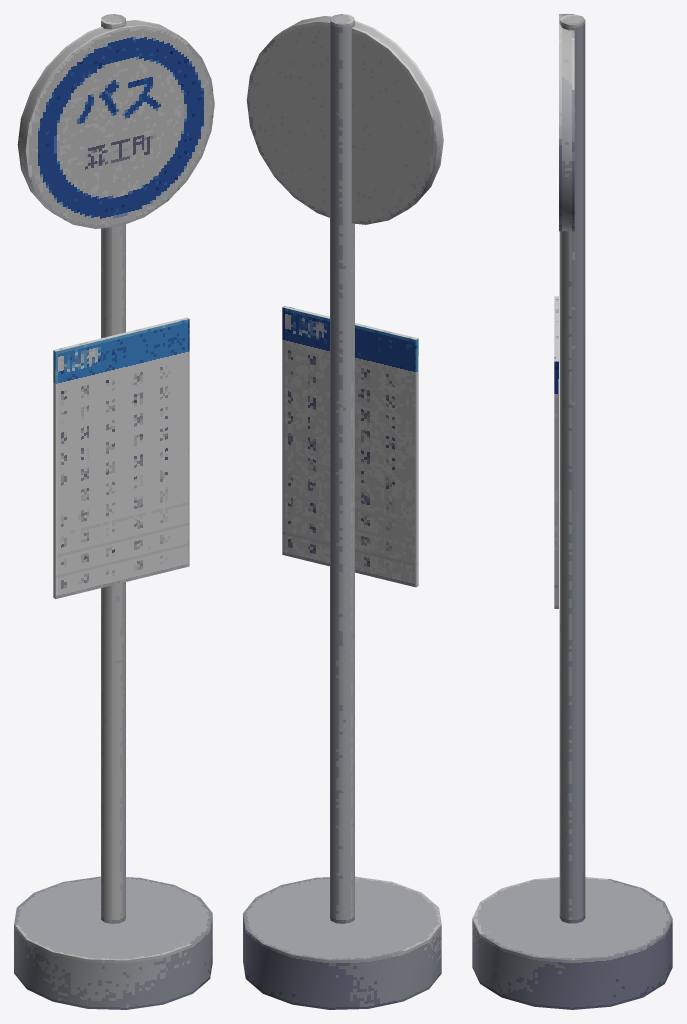
The model's file is busstop.glb.
The picture shows the model from 3 angles, left to right: view 1: azimuth 30°, elevation 25°; view 2: azimuth 150°, elevation 25°; view 3: azimuth 270°, elevation 25°; orthographic projection.
Parts seen in each view (by area): view 1: mesh; view 2: mesh; view 3: mesh.
Part boxes in pixels (x1,y1,x2,y2): mesh: (14,14,214,1009); mesh: (243,14,443,1009); mesh: (472,14,672,1009).
Bounding box in the file's own units: 0.4798 × 2.3 × 0.44.
Materials: 1 (1 with a texture image).
